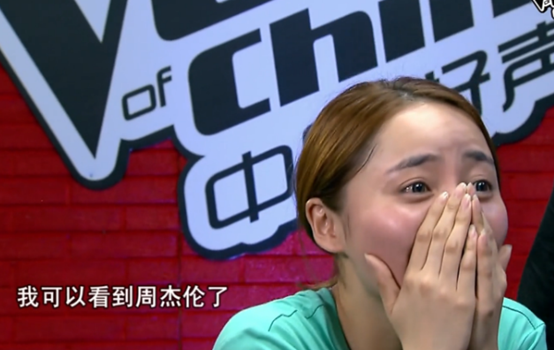face: (352, 117, 509, 296)
